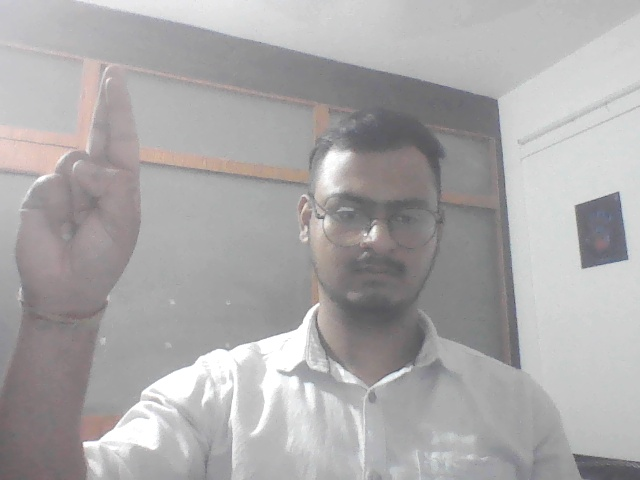GoodLuck: (13, 63, 149, 318)
